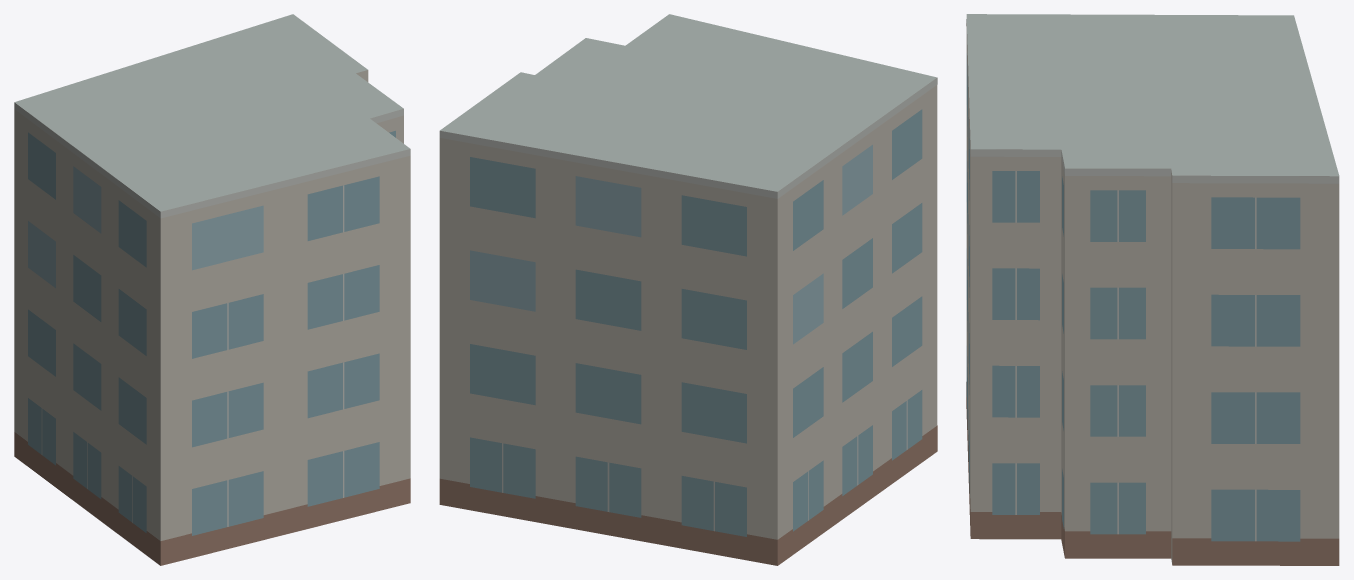
File: survey-upis-32878230.glb
3 renders of one model, left to right at view 1: azimuth 30°, elevation 25°; view 2: azimuth 150°, elevation 25°; view 3: azimuth 270°, elevation 25°, orthographic. The views are drawn at different scales.
Visible parts, largest first — view 1: survey-upis-32878230.tmp; view 2: survey-upis-32878230.tmp; view 3: survey-upis-32878230.tmp.
Boxes of the visible parts, x1,y1,x2,y2 form: survey-upis-32878230.tmp: [14, 14, 410, 565]; survey-upis-32878230.tmp: [439, 14, 937, 565]; survey-upis-32878230.tmp: [966, 14, 1339, 565].
Bounding box in the file's own units: 11.43 × 12.8 × 11.11.
